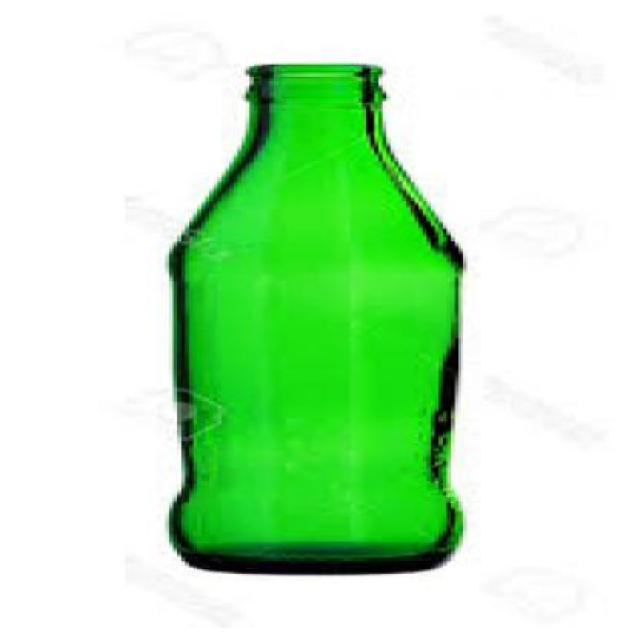glass: (174, 64, 468, 574)
